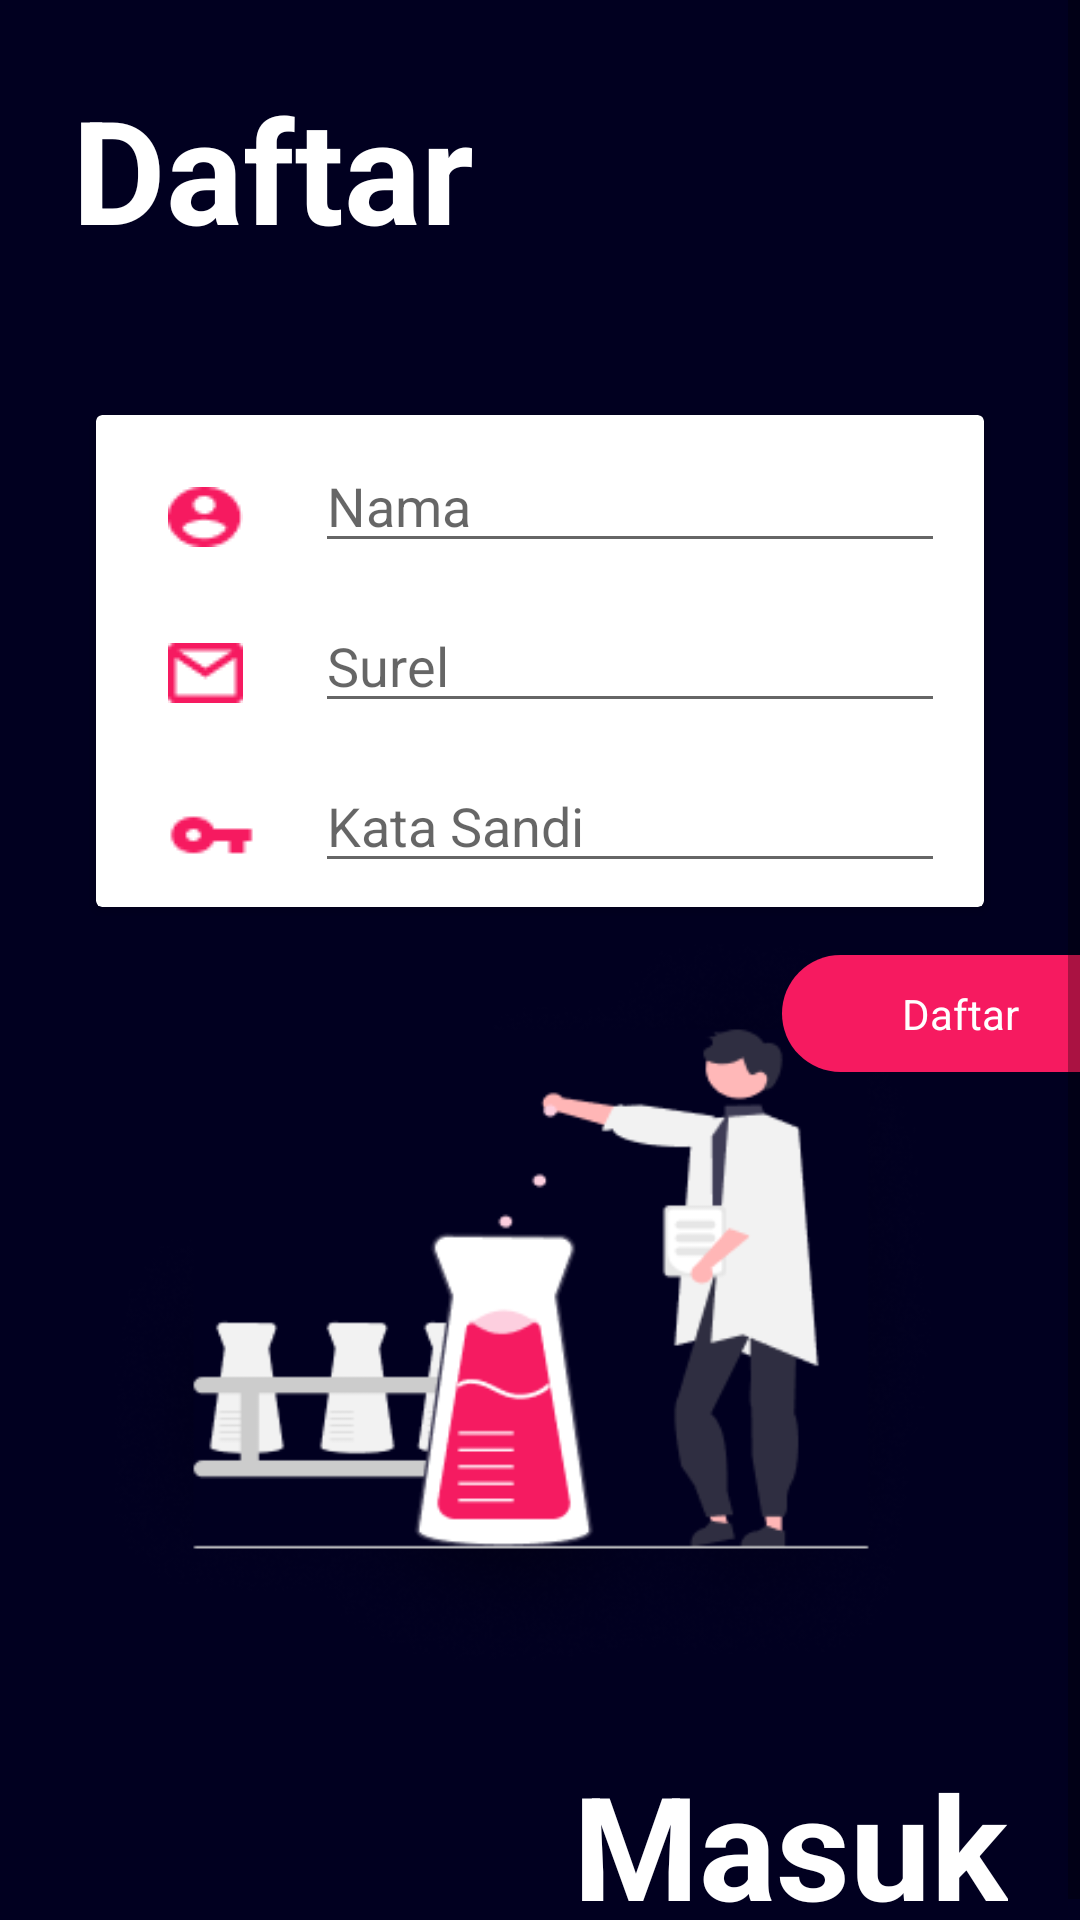

Named icons in this screenshot (1080×1920) and their centers, [x,y]:
email: [205,673]
password: [211,835]
profile: [205,517]
